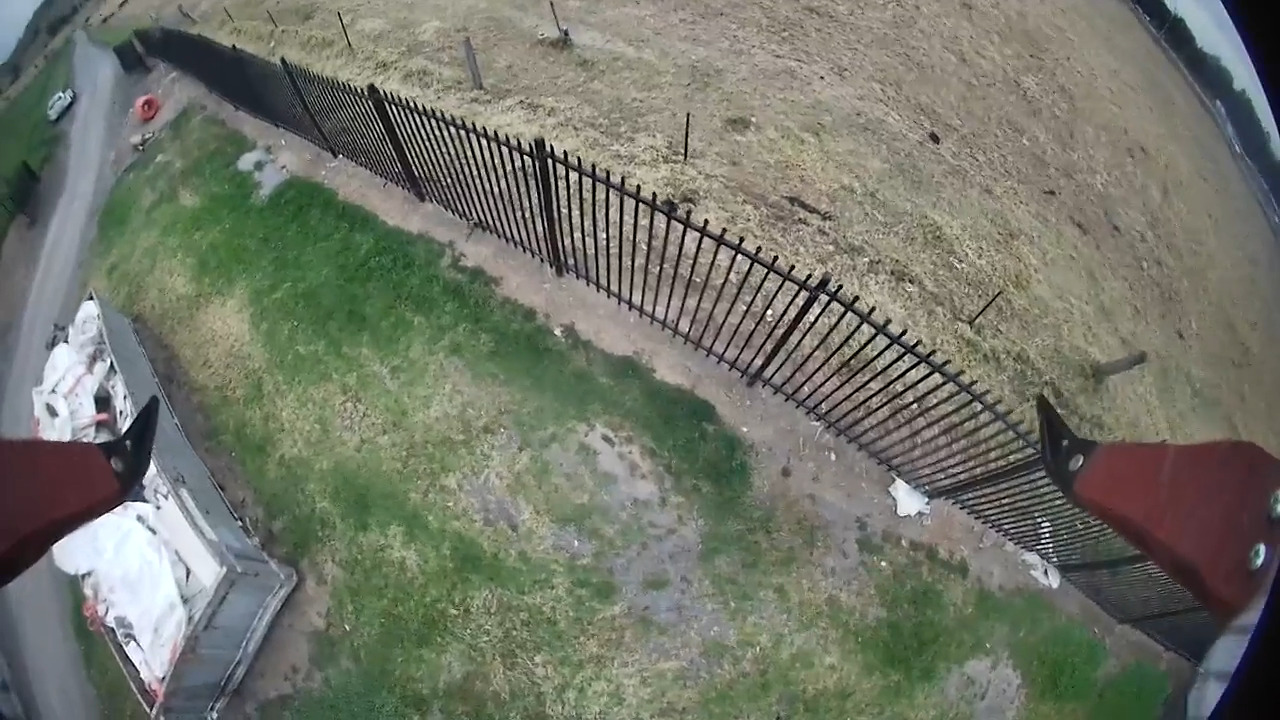Car: (46, 86, 77, 122)
